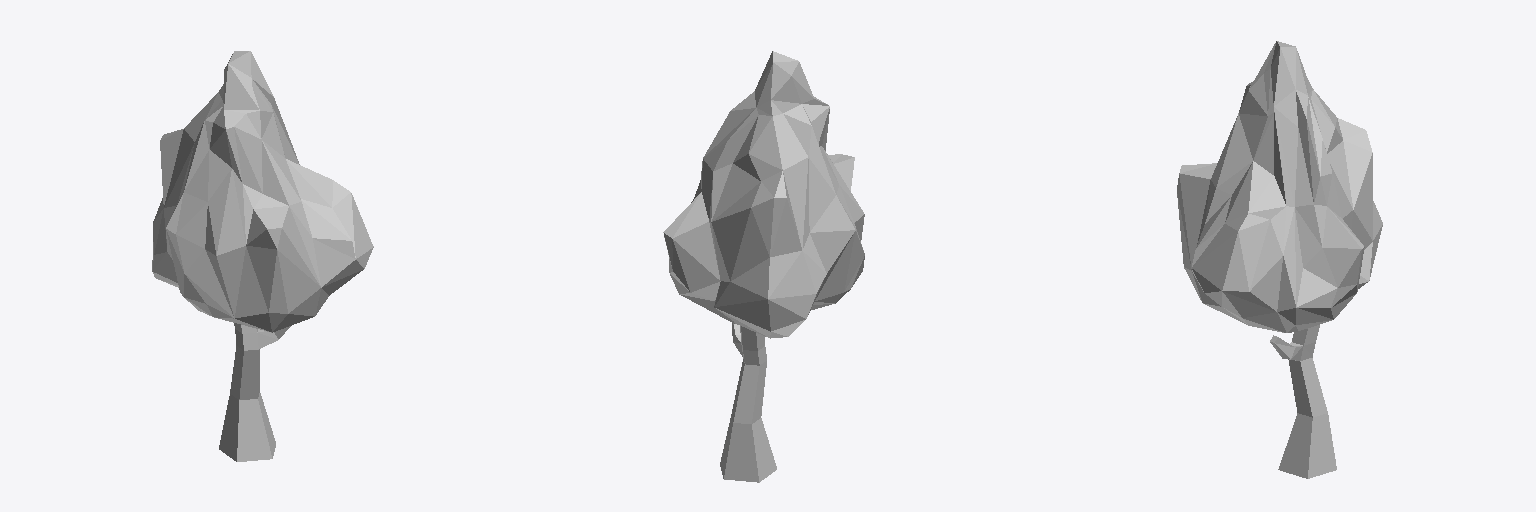
File: tree02.obj
3 renders of one model, left to right at view 1: azimuth 30°, elevation 25°; view 2: azimuth 150°, elevation 25°; view 3: azimuth 270°, elevation 25°, orthographic.
Visible parts, largest first — view 1: SM_Env_Tree_02_Mesh.002; view 2: SM_Env_Tree_02_Mesh.002; view 3: SM_Env_Tree_02_Mesh.002.
Part boxes in pixels (bbox=[...]): SM_Env_Tree_02_Mesh.002: bbox=[152, 51, 373, 461]; SM_Env_Tree_02_Mesh.002: bbox=[663, 51, 864, 482]; SM_Env_Tree_02_Mesh.002: bbox=[1177, 41, 1382, 478].
Bounding box in the file's own units: 1.9 × 4.21 × 1.91.